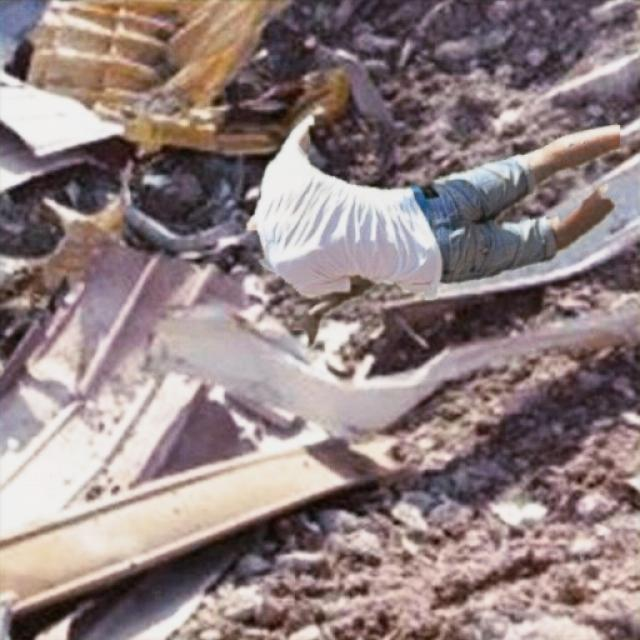Person in Rubble: (245, 115, 619, 346)
